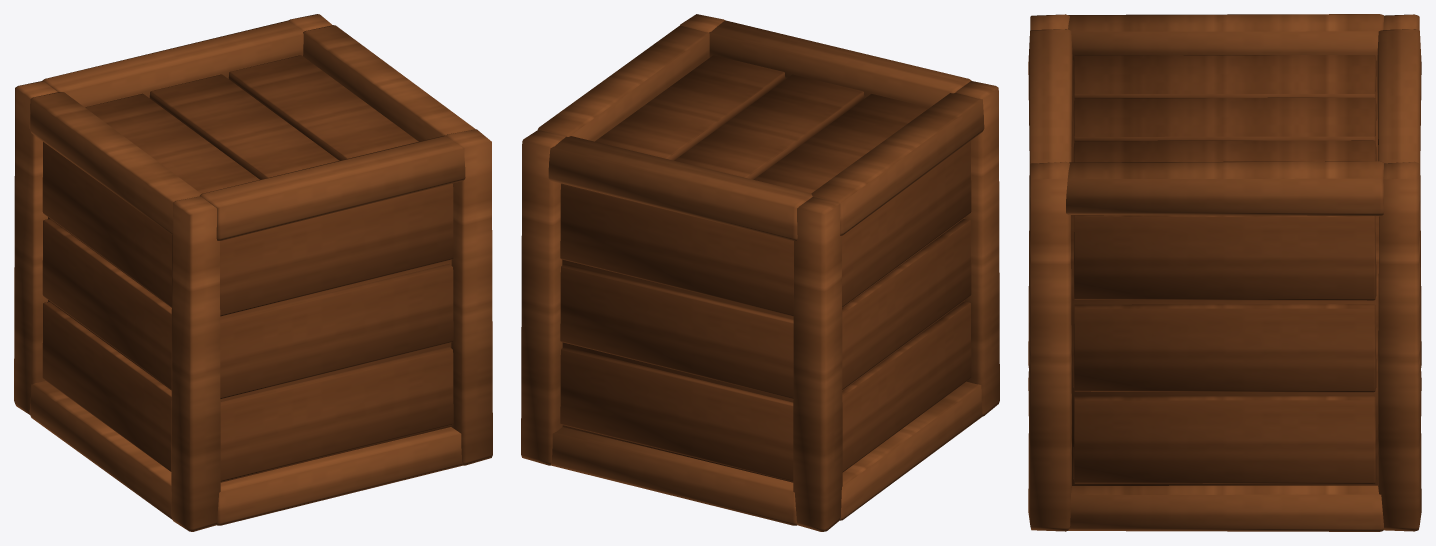
The model's file is 09_crate_brown.glb.
3 views of the same model, side by side, from view 1: azimuth 30°, elevation 25°; view 2: azimuth 150°, elevation 25°; view 3: azimuth 270°, elevation 25° (orthographic). The views are drawn at different scales.
Parts seen in each view (by area): view 1: SideSlatZ_1_1, SideSlatZ_0_1, SideSlatZ_2_1, CornerPost_-1_1, RailX_1_1, CornerPost_1_1, SideSlatX_1_-1, SideSlatX_0_-1, RailX_-1_1, SideSlatX_2_-1, TopRecessedSlat_2, RailX_1_-1 (+7 smaller); view 2: SideSlatZ_1_-1, SideSlatZ_0_-1, SideSlatZ_2_-1, CornerPost_-1_-1, RailX_1_-1, CornerPost_1_-1, SideSlatX_1_-1, SideSlatX_0_-1, RailX_-1_-1, SideSlatX_2_-1, RailX_1_1, RailZ_1_-1 (+7 smaller); view 3: SideSlatX_1_1, SideSlatX_0_1, SideSlatX_2_1, RailZ_1_1, CornerPost_1_1, CornerPost_1_-1, RailZ_-1_1, TopRecessedSlat_1, TopRecessedSlat_0, RailZ_1_-1, TopRecessedSlat_2, RailX_1_1 (+4 smaller).
Part boxes in pixels (bbox=[...]): SideSlatZ_1_1: bbox=[220, 264, 453, 398]; SideSlatZ_0_1: bbox=[220, 346, 453, 481]; SideSlatZ_2_1: bbox=[220, 183, 453, 316]; CornerPost_-1_1: bbox=[171, 196, 220, 531]; RailX_1_1: bbox=[200, 135, 465, 240]; CornerPost_1_1: bbox=[446, 129, 492, 465]; SideSlatX_1_-1: bbox=[42, 219, 171, 389]; SideSlatX_0_-1: bbox=[42, 302, 171, 471]; RailX_-1_1: bbox=[217, 427, 463, 525]; SideSlatX_2_-1: bbox=[42, 142, 171, 306]; TopRecessedSlat_2: bbox=[228, 55, 418, 160]; RailX_1_-1: bbox=[42, 20, 303, 107]; SideSlatZ_1_-1: bbox=[560, 264, 793, 398]; SideSlatZ_0_-1: bbox=[560, 347, 793, 481]; SideSlatZ_2_-1: bbox=[560, 183, 793, 316]; CornerPost_-1_-1: bbox=[793, 197, 842, 531]; RailX_1_-1: bbox=[548, 136, 812, 240]; CornerPost_1_-1: bbox=[521, 130, 565, 465]; SideSlatX_1_-1: bbox=[842, 219, 971, 389]; SideSlatX_0_-1: bbox=[842, 301, 971, 472]; RailX_-1_-1: bbox=[550, 427, 797, 525]; SideSlatX_2_-1: bbox=[842, 141, 971, 307]; RailX_1_1: bbox=[709, 20, 971, 107]; RailZ_1_-1: bbox=[811, 92, 984, 235]; SideSlatX_1_1: bbox=[1073, 304, 1376, 392]; SideSlatX_0_1: bbox=[1073, 396, 1376, 483]; SideSlatX_2_1: bbox=[1073, 215, 1376, 300]; RailZ_1_1: bbox=[1066, 161, 1384, 215]; CornerPost_1_1: bbox=[1028, 162, 1071, 531]; CornerPost_1_-1: bbox=[1378, 162, 1421, 531]; RailZ_-1_1: bbox=[1068, 485, 1383, 531]; TopRecessedSlat_1: bbox=[1073, 97, 1376, 140]; TopRecessedSlat_0: bbox=[1073, 55, 1376, 97]; RailZ_1_-1: bbox=[1068, 14, 1383, 60]; TopRecessedSlat_2: bbox=[1073, 140, 1376, 162]; RailX_1_1: bbox=[1028, 29, 1072, 196].
Size of the model in its own units: 0.66 by 0.66 by 0.66.
2 materials, 2 textured.
